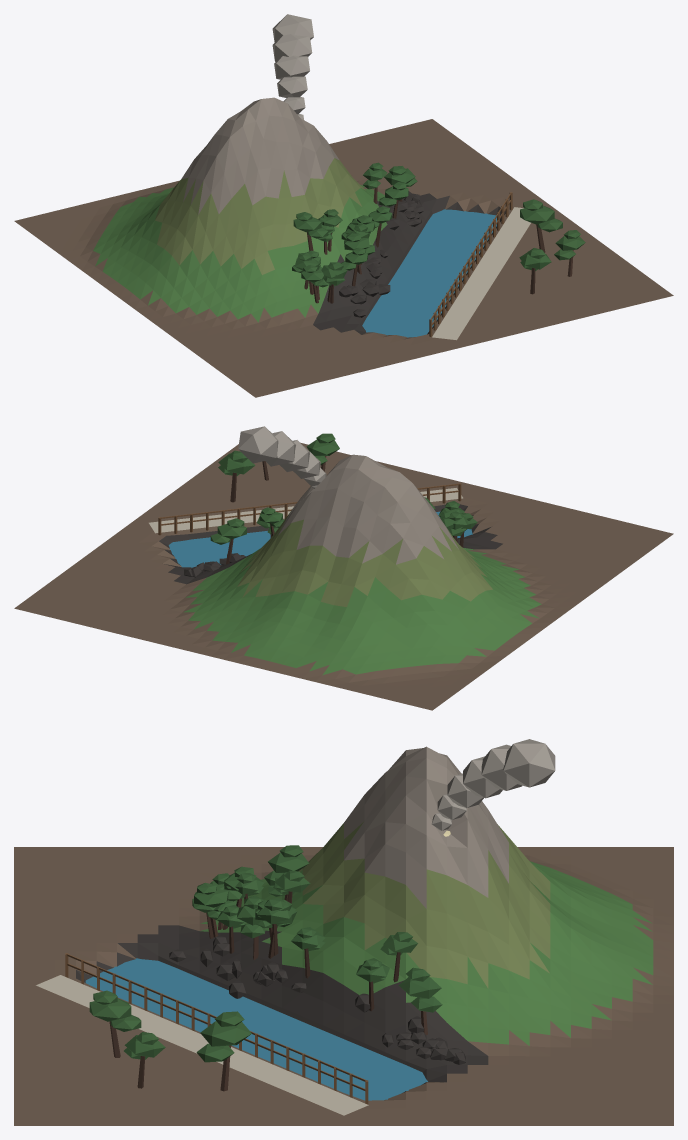
The model's file is sakurajima.glb.
3 renders of one model, top to bottom at view 1: azimuth 30°, elevation 25°; view 2: azimuth 150°, elevation 25°; view 3: azimuth 270°, elevation 25°, orthographic. The views are drawn at different scales.
Visible parts, largest first — view 1: sakurajima_ground, sakurajima_green, sakurajima_scrub, sakurajima_ash, sakurajima_water, sakurajima_pine, sakurajima_lava, sakurajima_pave, sakurajima_plume, sakurajima_wood, sakurajima_bark; view 2: sakurajima_ground, sakurajima_green, sakurajima_ash, sakurajima_scrub, sakurajima_pine, sakurajima_plume, sakurajima_lava, sakurajima_water, sakurajima_pave, sakurajima_wood, sakurajima_bark; view 3: sakurajima_ground, sakurajima_green, sakurajima_scrub, sakurajima_lava, sakurajima_ash, sakurajima_water, sakurajima_pine, sakurajima_pave, sakurajima_plume, sakurajima_wood, sakurajima_bark.
Boxes of the visible parts, box(x1,y1,x2,y2) form: sakurajima_ground: box(14, 119, 673, 397); sakurajima_green: box(93, 185, 387, 322); sakurajima_scrub: box(155, 158, 365, 274); sakurajima_ash: box(181, 97, 339, 214); sakurajima_water: box(362, 209, 496, 337); sakurajima_pine: box(292, 162, 585, 287); sakurajima_lava: box(313, 191, 505, 334); sakurajima_pave: box(432, 207, 530, 340); sakurajima_plume: box(272, 14, 313, 119); sakurajima_wood: box(429, 192, 512, 336); sakurajima_bark: box(304, 180, 573, 303); sakurajima_ground: box(14, 442, 673, 710); sakurajima_green: box(183, 548, 541, 675); sakurajima_ash: box(278, 454, 458, 564); sakurajima_scrub: box(237, 510, 492, 606); sakurajima_pine: box(210, 433, 477, 544); sakurajima_plume: box(238, 426, 326, 488); sakurajima_lava: box(159, 504, 502, 584); sakurajima_water: box(168, 511, 472, 567); sakurajima_pave: box(149, 488, 462, 533); sakurajima_wood: box(158, 483, 461, 535); sakurajima_bark: box(226, 456, 464, 564); sakurajima_ground: box(14, 847, 673, 1125); sakurajima_green: box(200, 861, 653, 1045); sakurajima_scrub: box(299, 822, 550, 988); sakurajima_lava: box(76, 925, 488, 1100); sakurajima_ash: box(344, 746, 508, 908); sakurajima_water: box(85, 958, 427, 1100); sakurajima_pine: box(89, 845, 442, 1062); sakurajima_pave: box(36, 975, 368, 1115); sakurajima_plume: box(432, 739, 555, 830); sakurajima_wood: box(65, 953, 368, 1104); sakurajima_bark: box(109, 891, 427, 1091).
Size of the model in its own units: 22.4 by 10.37 by 22.4.
